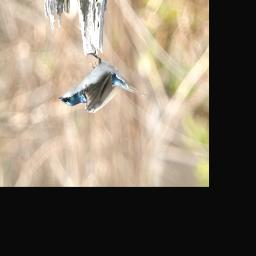Swallow: (57, 52, 147, 115)
